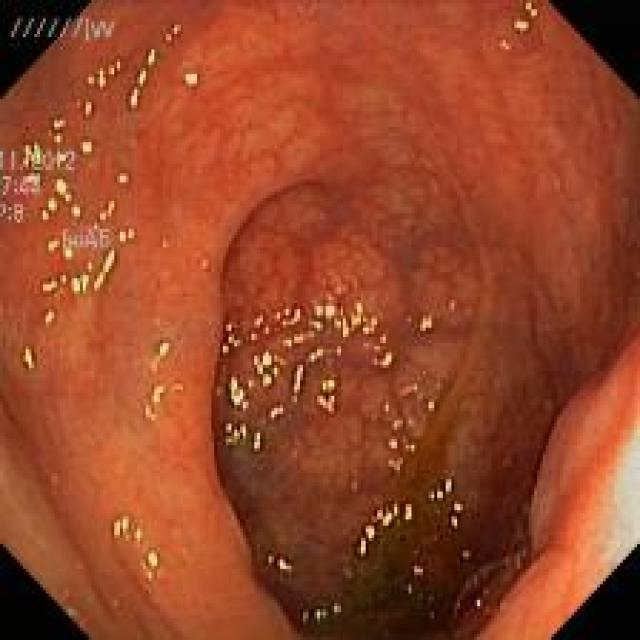ulcerative-colitis-grade-1: (2, 0, 638, 640)
